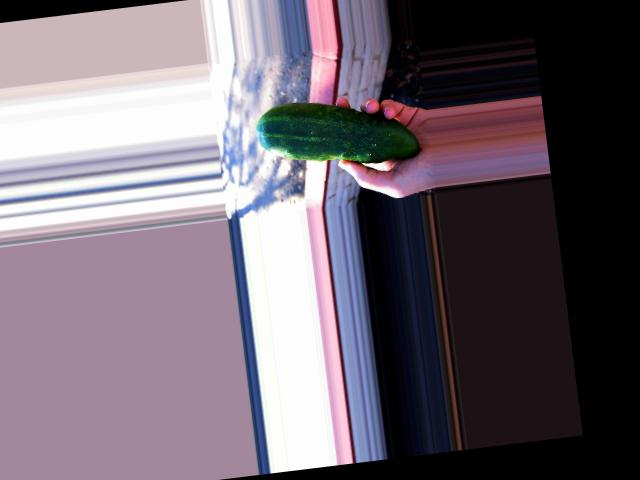cucumber: (254, 87, 420, 176)
